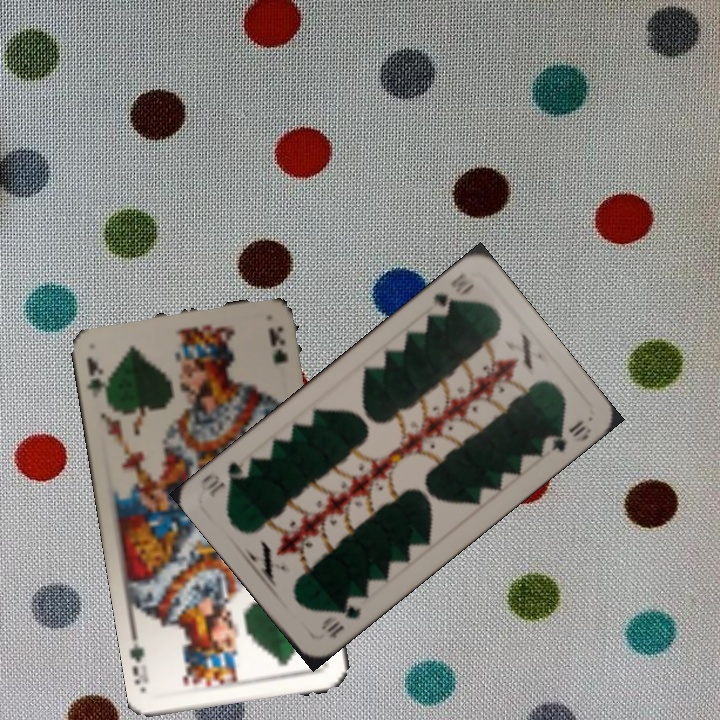G10: (317, 598, 364, 642), (429, 279, 477, 320)
GK: (83, 354, 114, 407)
